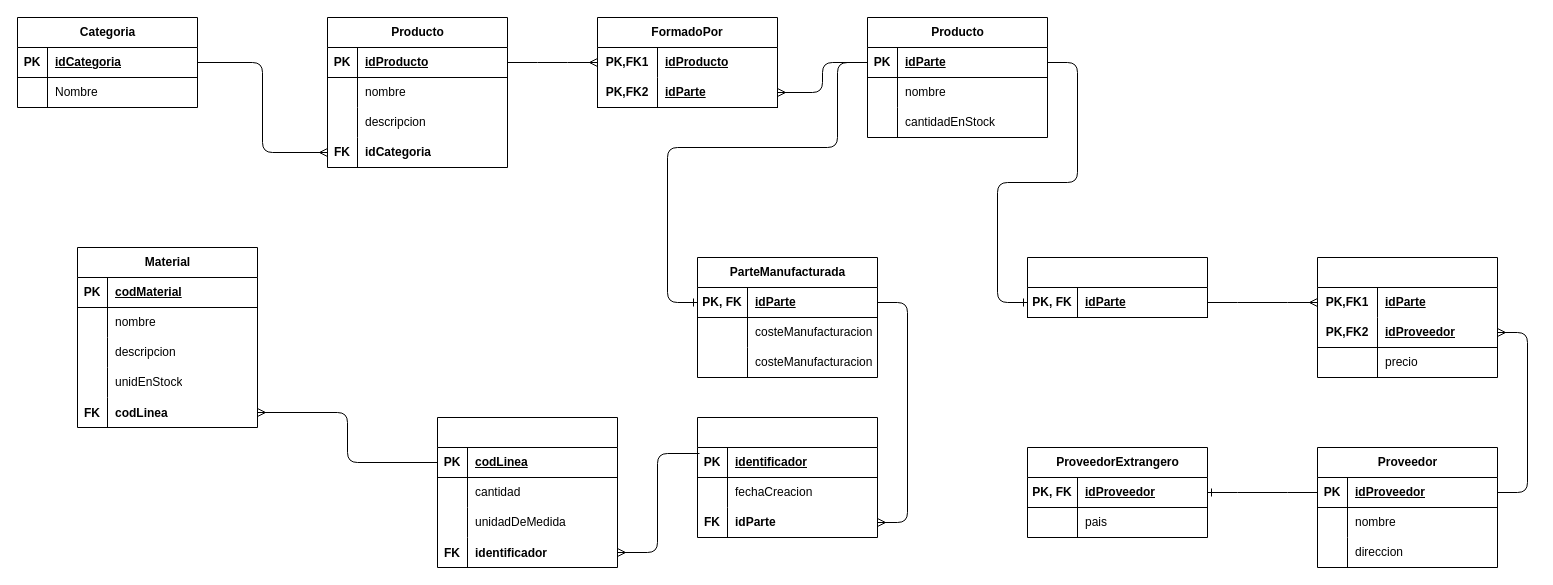
Image size: 1553x585. Some labels were removed from this diagram. The shapes that lost their labels are listed below. From the top down, each one's box as (x1, y1, x2, y2) in pixels, then its label:
(1026, 256, 1208, 318): ParteComprada
(1316, 256, 1498, 378): InformacionPrecio
(436, 416, 618, 568): LineaListaMaterial
(696, 416, 878, 538): ListaMateriales
